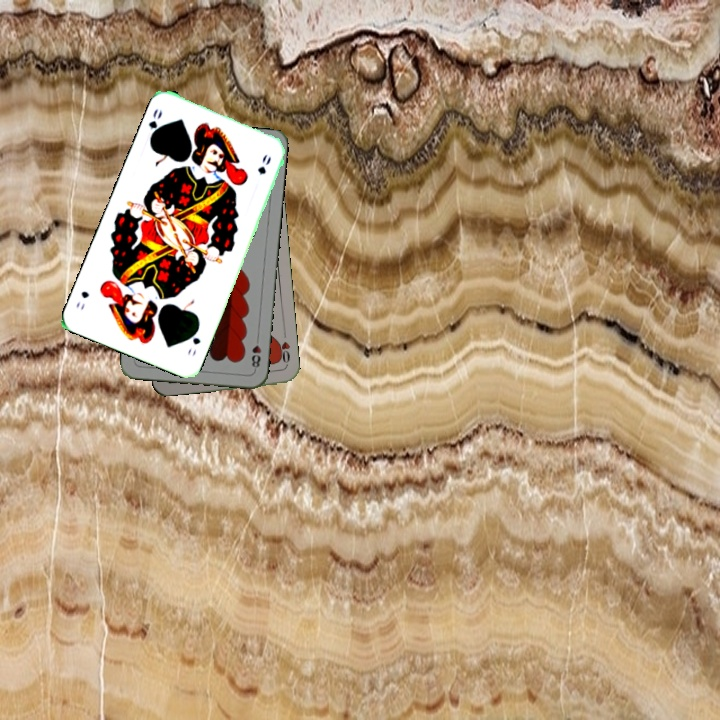GO: (144, 105, 165, 142), (183, 323, 203, 358)
H8: (247, 332, 264, 373)
HO: (273, 328, 293, 369)
